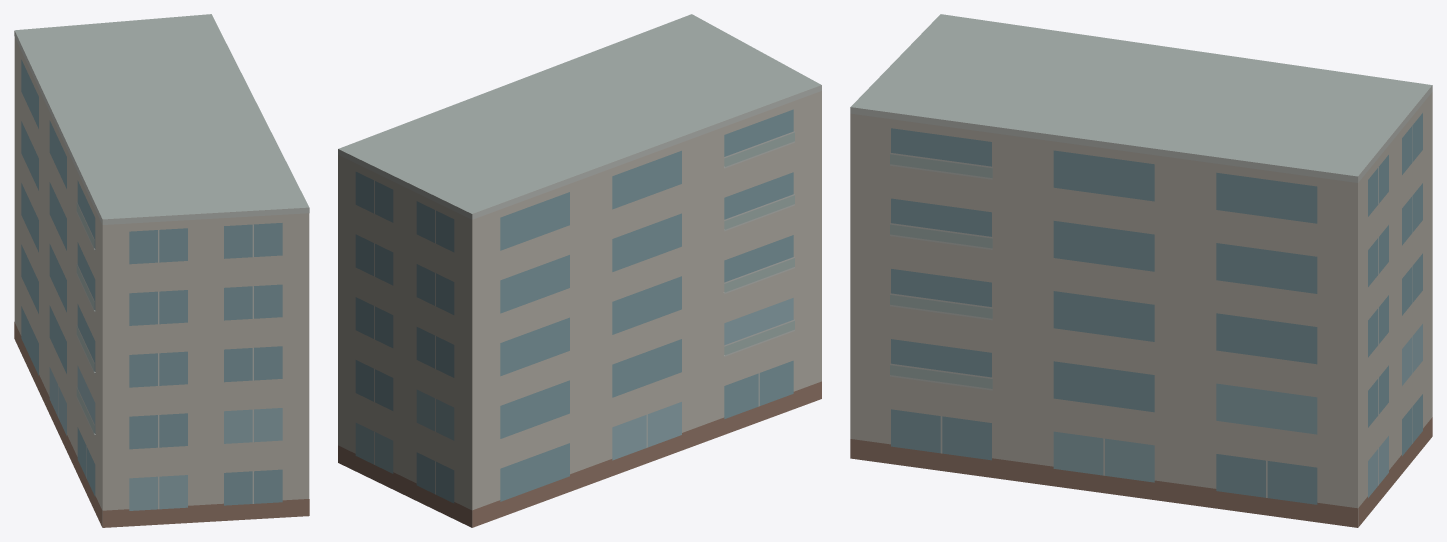
File: survey-upis-32772743.glb
3 renders of one model, left to right at view 1: azimuth 30°, elevation 25°; view 2: azimuth 150°, elevation 25°; view 3: azimuth 270°, elevation 25°, orthographic. The views are drawn at different scales.
Visible parts, largest first — view 1: survey-upis-32772743.tmp; view 2: survey-upis-32772743.tmp; view 3: survey-upis-32772743.tmp.
Boxes of the visible parts, x1,y1,x2,y2 form: survey-upis-32772743.tmp: [14, 14, 309, 527]; survey-upis-32772743.tmp: [338, 14, 821, 527]; survey-upis-32772743.tmp: [850, 14, 1432, 527].
Bounding box in the file's own units: 13.1 × 13.2 × 19.83.
